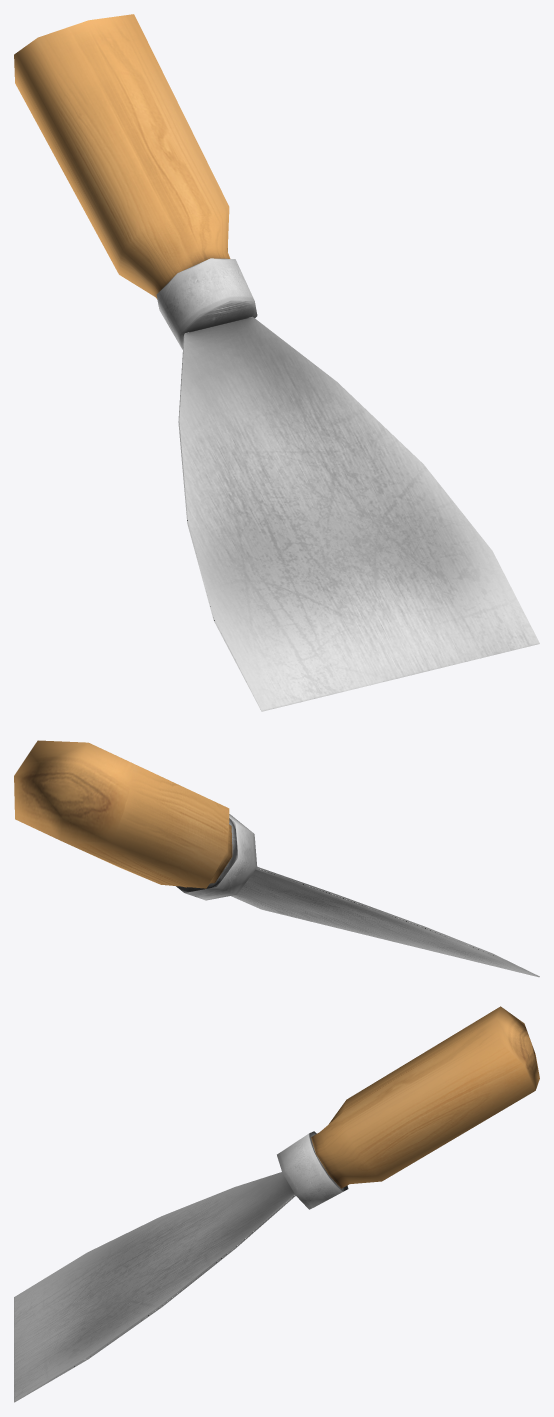
File: huichan.fbx
The picture shows the model from 3 angles, top to bottom: view 1: azimuth 30°, elevation 25°; view 2: azimuth 150°, elevation 25°; view 3: azimuth 270°, elevation 25°; orthographic projection. The views are drawn at different scales.
Visible parts, largest first — view 1: TEMPORARY_IMPORT_NAMESPACE_蔩腳___蟔豞_HuiChan_LShape; view 2: TEMPORARY_IMPORT_NAMESPACE_蔩腳___蟔豞_HuiChan_LShape; view 3: TEMPORARY_IMPORT_NAMESPACE_蔩腳___蟔豞_HuiChan_LShape.
Part boxes in pixels (left/top/right/bottom): TEMPORARY_IMPORT_NAMESPACE_蔩腳___蟔豞_HuiChan_LShape: left=14, top=14, right=539, bottom=711; TEMPORARY_IMPORT_NAMESPACE_蔩腳___蟔豞_HuiChan_LShape: left=14, top=740, right=539, bottom=977; TEMPORARY_IMPORT_NAMESPACE_蔩腳___蟔豞_HuiChan_LShape: left=14, top=1006, right=539, bottom=1402.
Bounding box in the file's own units: 0.9528 × 1.41 × 2.02.
